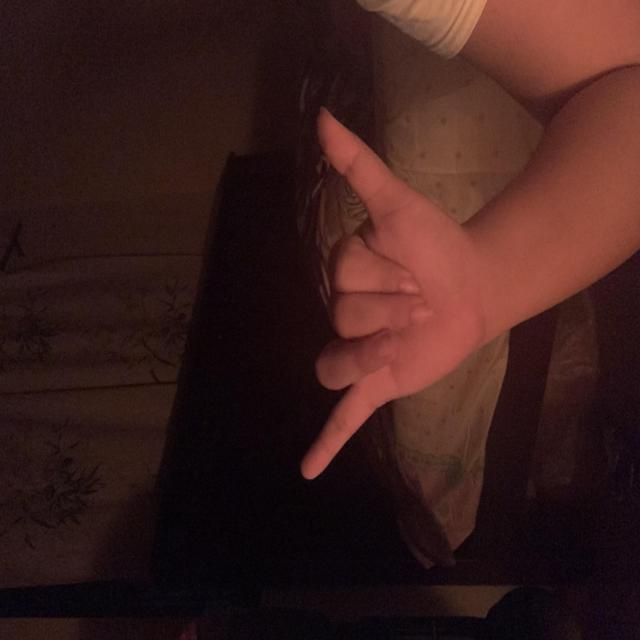Y: (106, 298, 484, 480)
